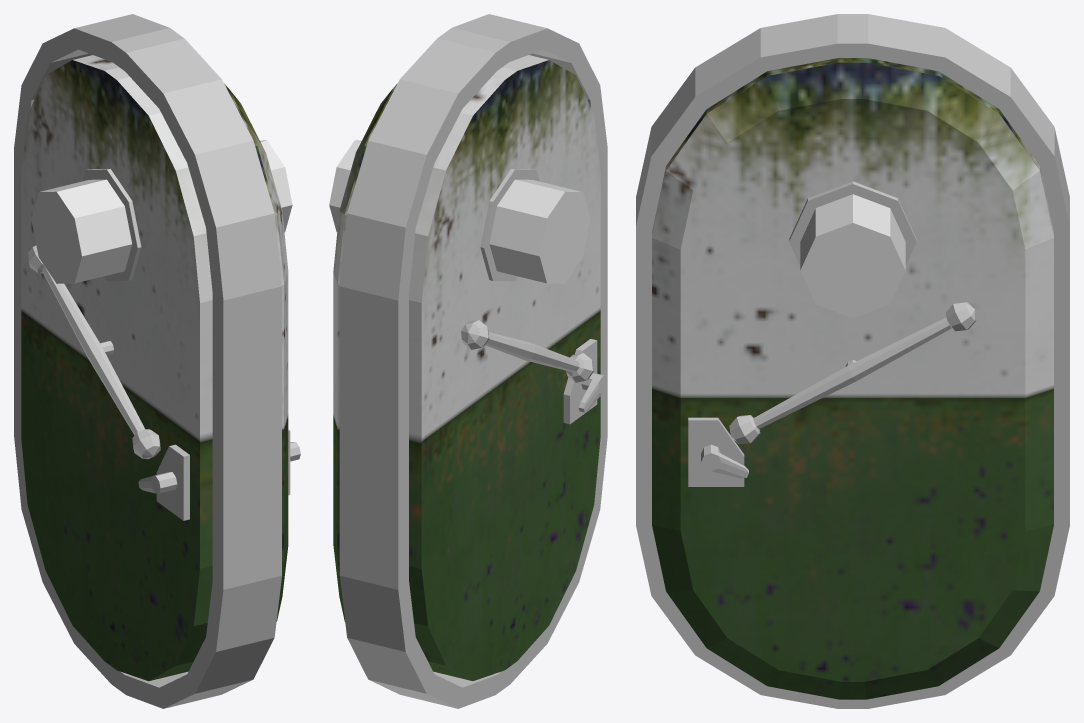
Rendered from reinforceddoor.fbx.
3 renders of one model, left to right at view 1: azimuth 30°, elevation 25°; view 2: azimuth 150°, elevation 25°; view 3: azimuth 270°, elevation 25°, orthographic. The views are drawn at different scales.
Visible parts, largest first — view 1: Cylinder.005, Cube, Cylinder; view 2: Cylinder.005, Cube, Cylinder; view 3: Cylinder.005, Cube, Cylinder.
Boxes of the visible parts, left/top/right/bottom form: Cylinder.005: left=21, top=55, right=300, bottom=681; Cube: left=14, top=14, right=281, bottom=708; Cylinder: left=31, top=140, right=292, bottom=283; Cylinder.005: left=333, top=55, right=607, bottom=680; Cube: left=339, top=14, right=607, bottom=708; Cylinder: left=329, top=140, right=590, bottom=283; Cylinder.005: left=652, top=58, right=1053, bottom=699; Cube: left=636, top=14, right=1069, bottom=708; Cylinder: left=800, top=194, right=905, bottom=317.
Bounding box in the file's own units: 75.48 × 220 × 130.
